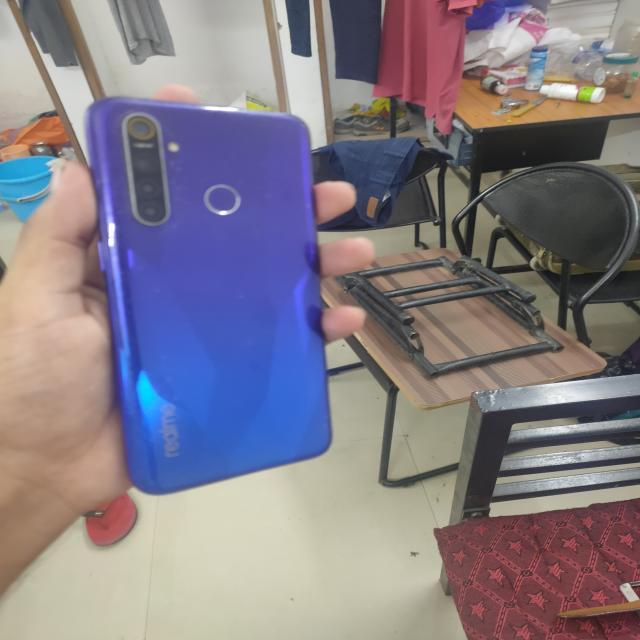Phone: (85, 96, 336, 494)
